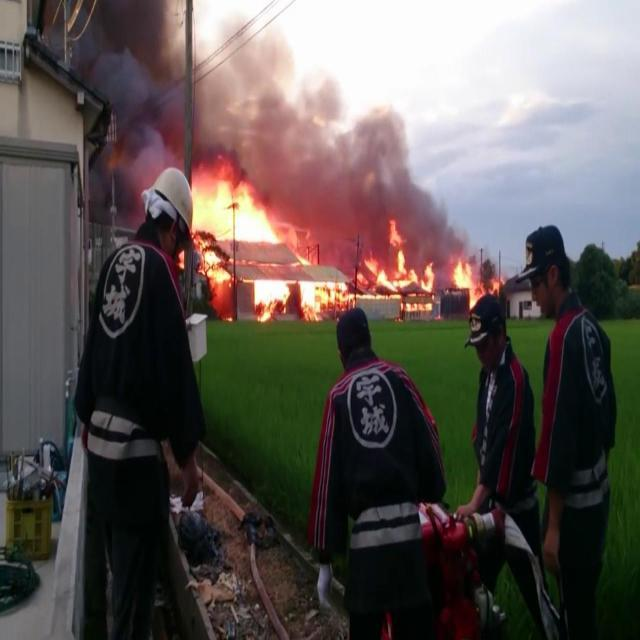Fire: (192, 186, 284, 282), (352, 222, 434, 310), (454, 260, 500, 306), (298, 284, 352, 320), (254, 279, 296, 321), (287, 226, 315, 266)
Smoke: (103, 10, 410, 180), (292, 184, 355, 226)
